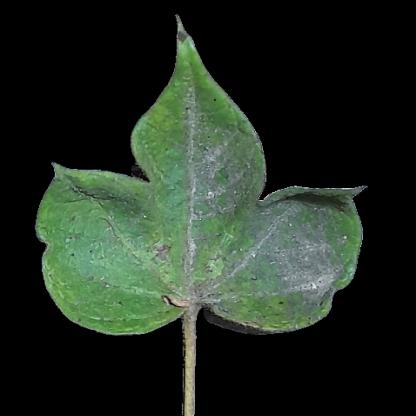curl_stage1: (52, 203, 159, 331)
sooty: (186, 148, 254, 294), (261, 211, 352, 290)
